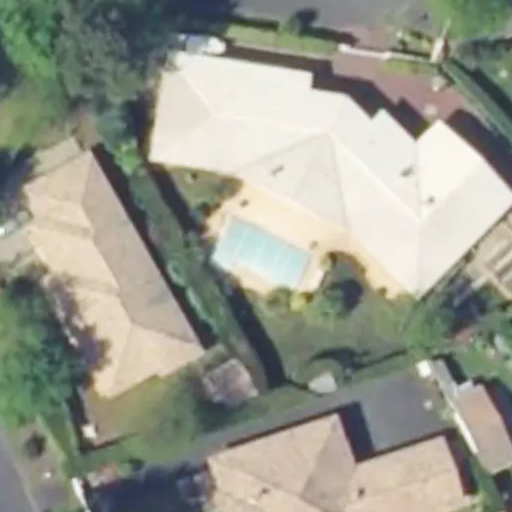pool: (204, 246, 306, 248)
